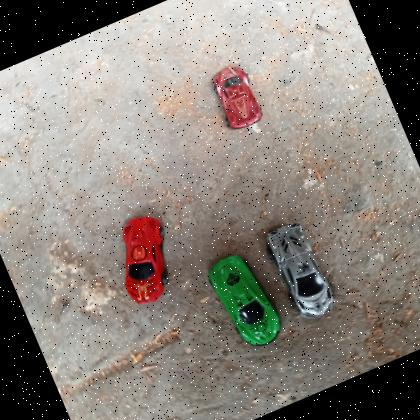Car: (257, 216, 343, 330), (203, 245, 289, 356), (100, 206, 190, 310), (203, 58, 270, 137)
